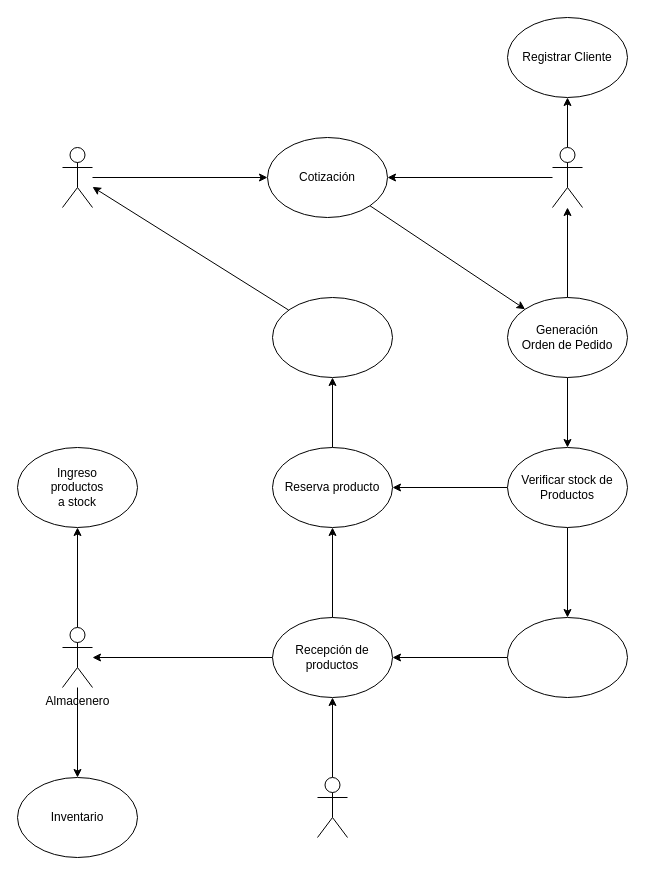
Some shapes in this 645 by 876 pixel diagram are drawn without their labels. Each missing label, with the centre of its shape:
Cliente: the point at 77,177
Empleado: the point at 567,177
Entrega producto: the point at 332,337
Generación de Orden compra: the point at 567,657
Proveedor: the point at 332,807
